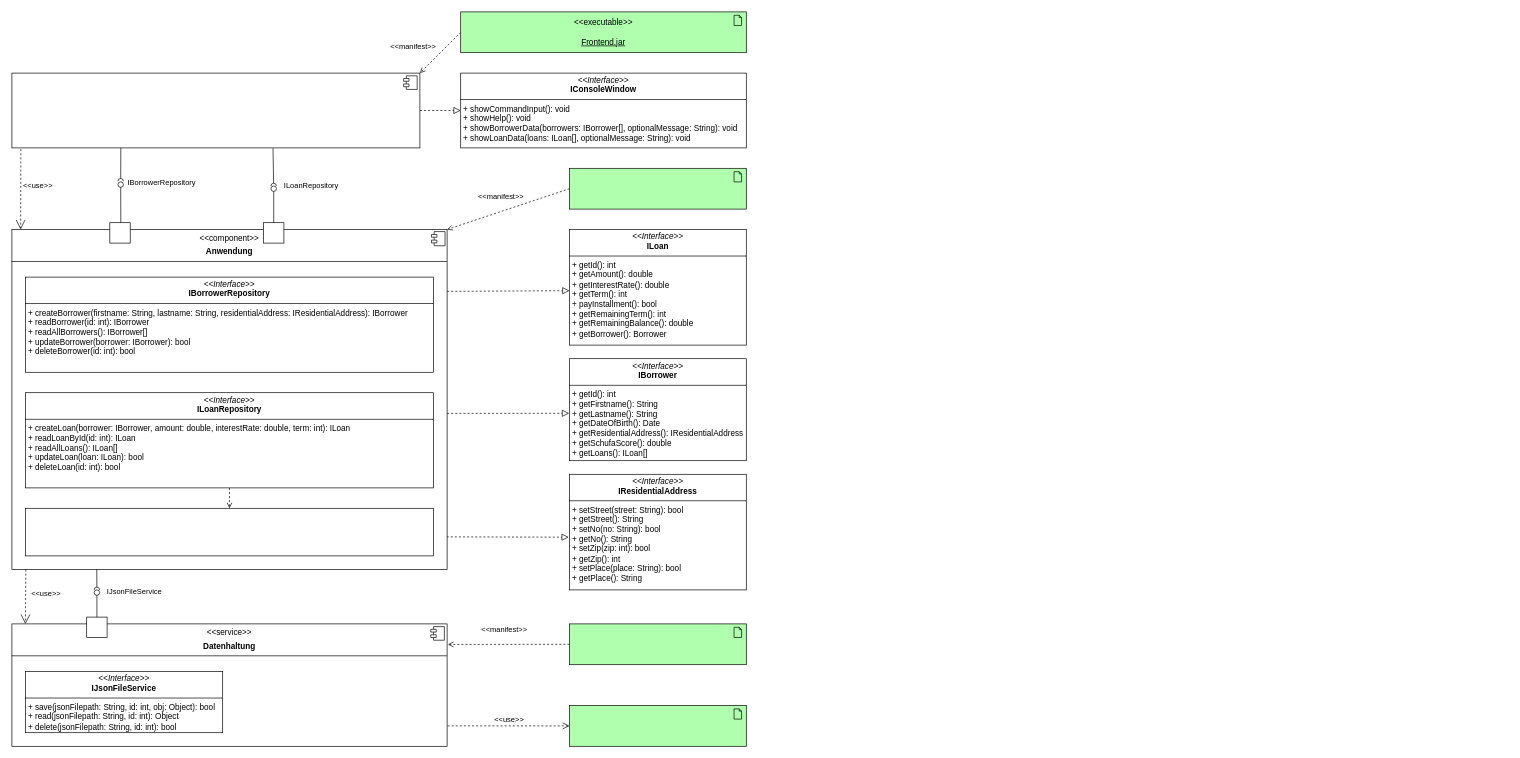
The diagram is 1520 pixels wide and 758 high, and some of its shapes have lost their labels. Here are the shapes that lost their labels. From the top down, the centre of each, then its label:
[215,110]: Darstellung
[657,188]: <<library>> Logic.jar
[229,532]: <<Interface>> ISchufaRepository + readSchufaScore(borrower: IBorrower): double
[657,644]: <<library>> Data.jar
[657,725]: <<library>> Google Gson API JAR
